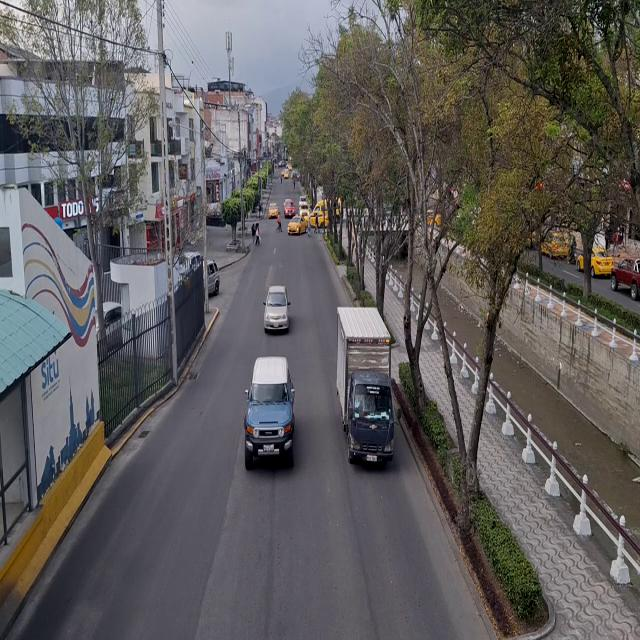CMT: (612, 258, 640, 298)
SED: (265, 288, 289, 333)
SUV: (248, 358, 294, 470)
TRUCK: (337, 307, 393, 463)
